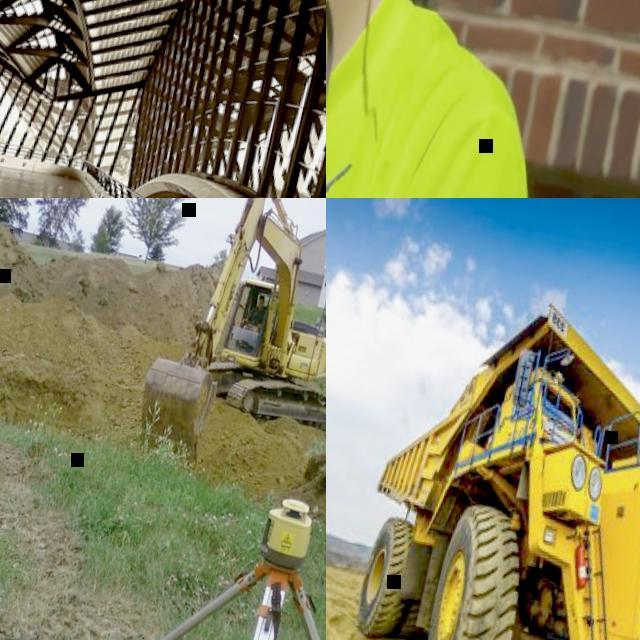helmet: (258, 294, 266, 301)
